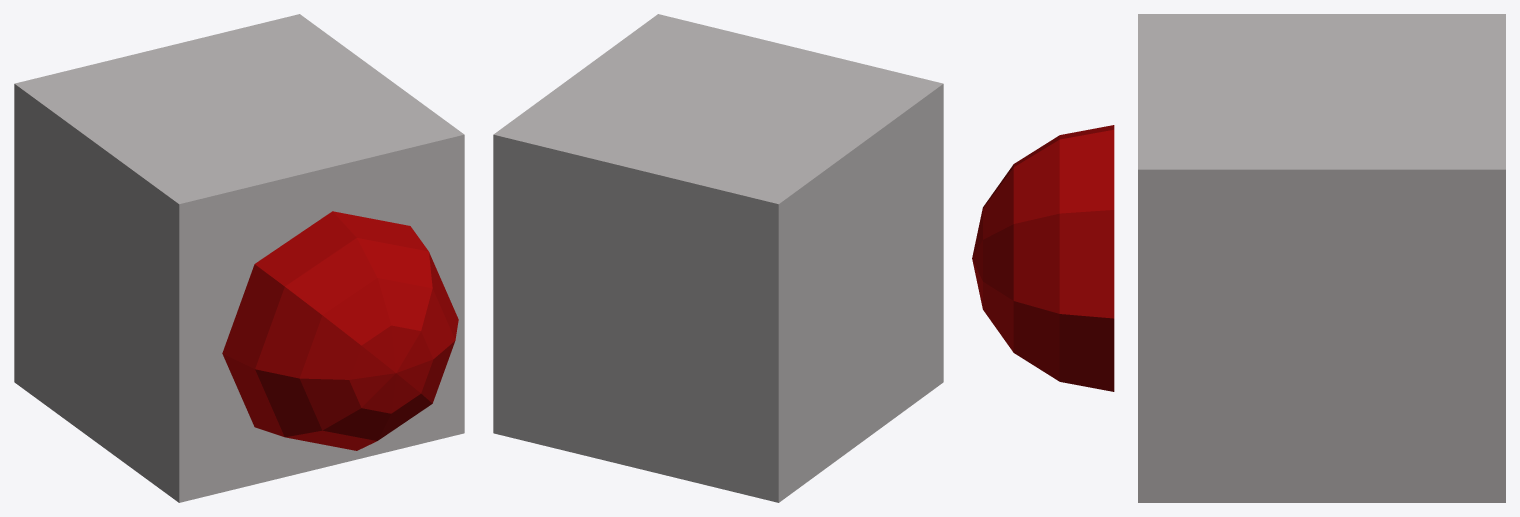
File: tpVideo_emergencyExitBtnB.gltf
3 views of the same model, side by side, from view 1: azimuth 30°, elevation 25°; view 2: azimuth 150°, elevation 25°; view 3: azimuth 270°, elevation 25° (orthographic). The views are drawn at different scales.
Visible parts, largest first — view 1: ExitButtonA; view 2: ExitButtonA; view 3: ExitButtonA.
Part boxes in pixels (box(x1,y1,x2,y2)): ExitButtonA: box(14, 14, 464, 502); ExitButtonA: box(493, 14, 943, 502); ExitButtonA: box(972, 14, 1505, 502).
Size of what is drawn, in the model's own units: 0.3175 by 0.3175 by 0.4607.
Materials: 1 (1 with a texture image).
